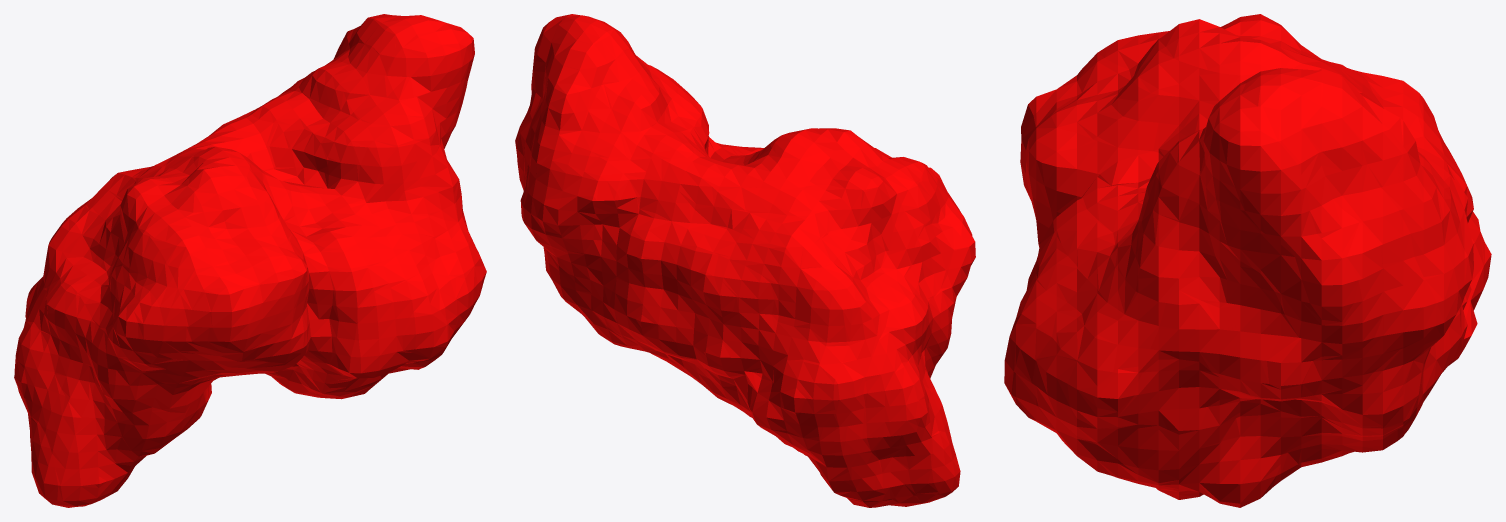
Rendered from iscS_coarse.dae.
The picture shows the model from 3 angles, left to right: view 1: azimuth 30°, elevation 25°; view 2: azimuth 150°, elevation 25°; view 3: azimuth 270°, elevation 25°; orthographic projection. The views are drawn at different scales.
Visible parts, largest first — view 1: iscS; view 2: iscS; view 3: iscS.
Boxes of the visible parts, box(x1,y1,x2,y2) form: iscS: box(14, 14, 486, 507); iscS: box(515, 14, 975, 507); iscS: box(1004, 14, 1491, 507).
Bounding box in the file's own units: 89.57 × 81.38 × 60.24.
